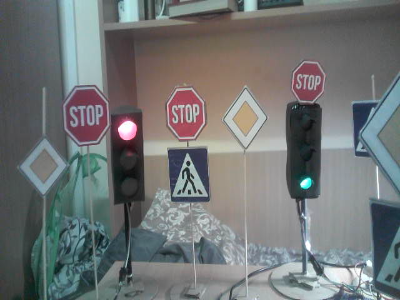crosswalk: (169, 148, 210, 202)
priority_road: (224, 88, 267, 147), (20, 141, 67, 193)
stop: (64, 86, 107, 143), (167, 88, 205, 141), (293, 64, 323, 102)
trafficlight_green: (292, 108, 320, 197)
trafficlight_red: (112, 114, 145, 203)
